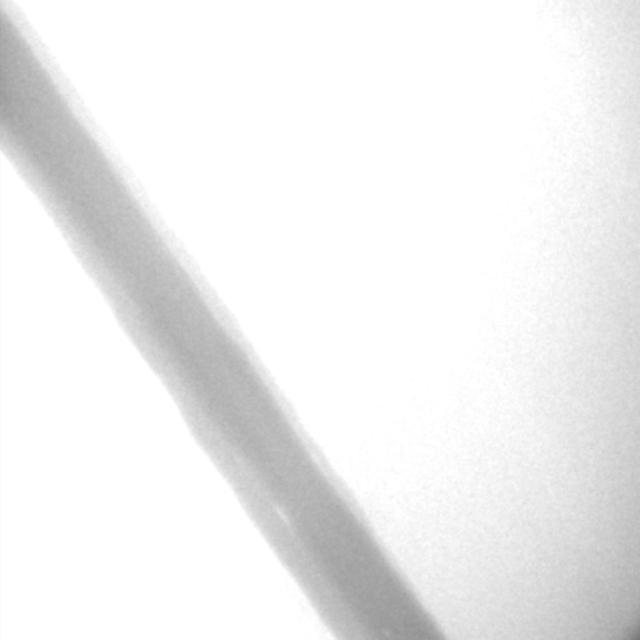air hole: (274, 504, 290, 531)
